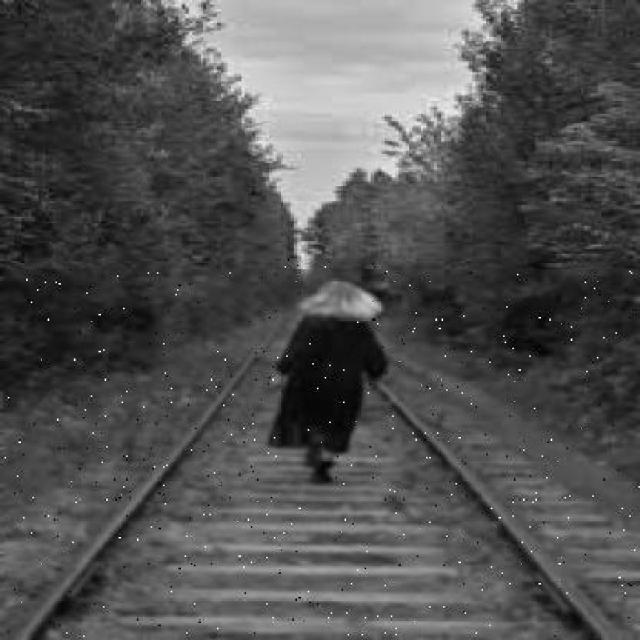danger: (282, 258, 384, 480)
rail: (5, 270, 640, 637)
